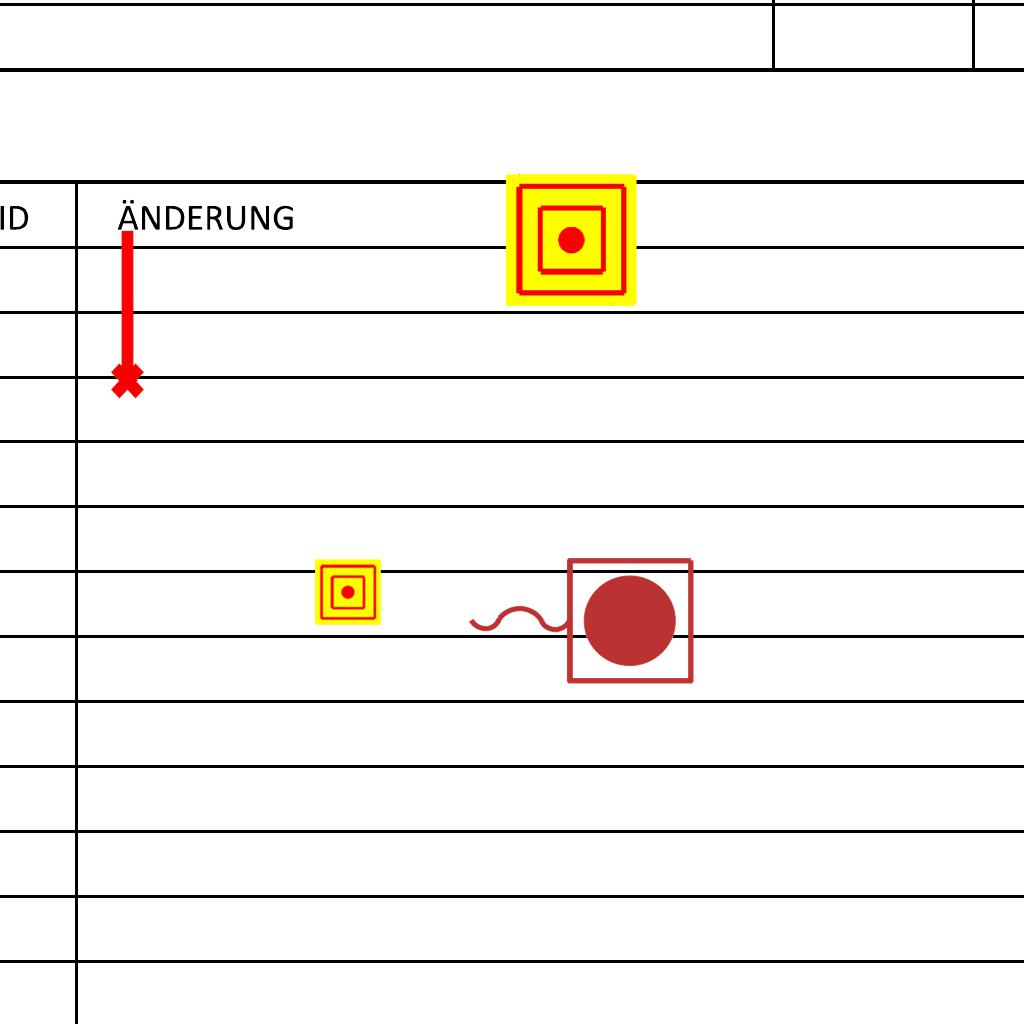ASR_Ansaugoeffnung: (102, 225, 148, 401), (117, 298, 140, 386)
NAM-Nichtautomatischer_Melder: (505, 174, 637, 306), (315, 559, 381, 625)
Zugtaster: (458, 547, 702, 691)
